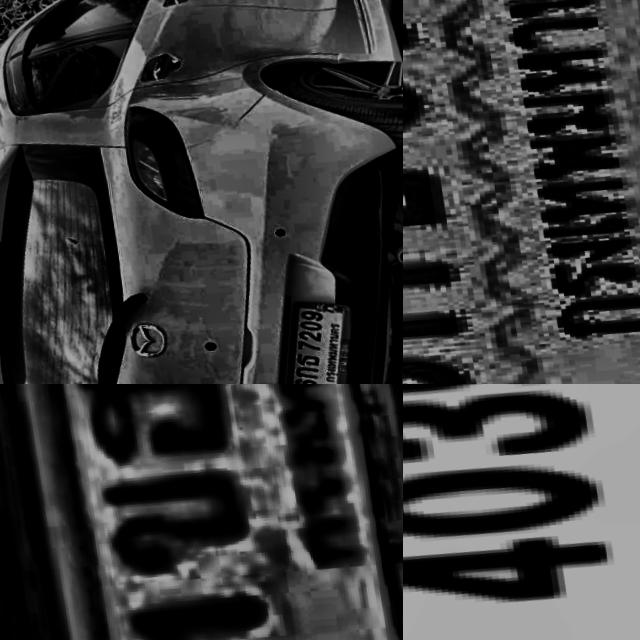license-plate: (0, 384, 403, 640), (403, 0, 640, 384), (403, 384, 640, 640), (261, 287, 362, 384)
